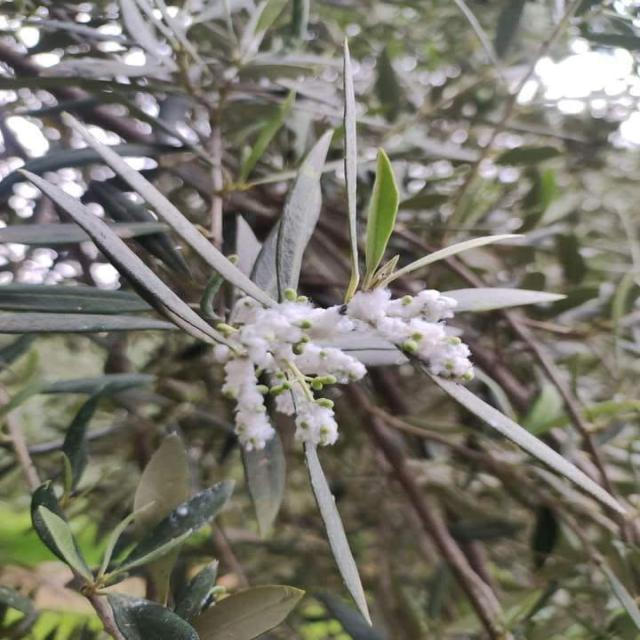Psyllid: (346, 286, 564, 416), (214, 288, 366, 452)
